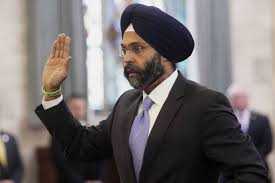helmet: (116, 2, 200, 90)
